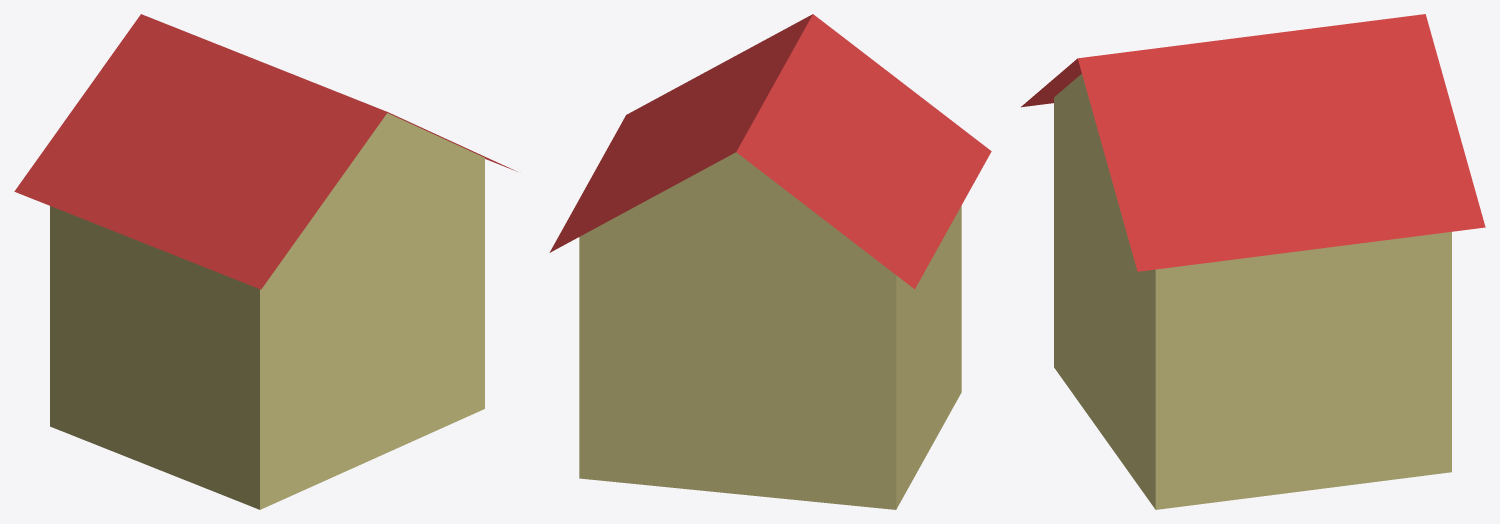
3 renders of one model, left to right at view 1: azimuth 30°, elevation 25°; view 2: azimuth 150°, elevation 25°; view 3: azimuth 270°, elevation 25°, orthographic. The views are drawn at different scales.
Parts seen in each view (by area): view 1: group_5, group_3, group_4; view 2: group_5, group_3, group_4; view 3: group_5, group_3, group_4.
Boxes of the visible parts, box(x1,y1,x2,y2) form: group_5: box(50, 113, 484, 509); group_3: box(50, 14, 408, 257); group_4: box(14, 14, 517, 289); group_5: box(579, 152, 961, 509); group_3: box(549, 14, 961, 259); group_4: box(550, 14, 991, 289); group_5: box(1054, 74, 1451, 509); group_3: box(1021, 17, 1484, 271); group_4: box(1078, 14, 1485, 227).
Bounding box in the file's own units: 13.7 × 12.9 × 11.68.
